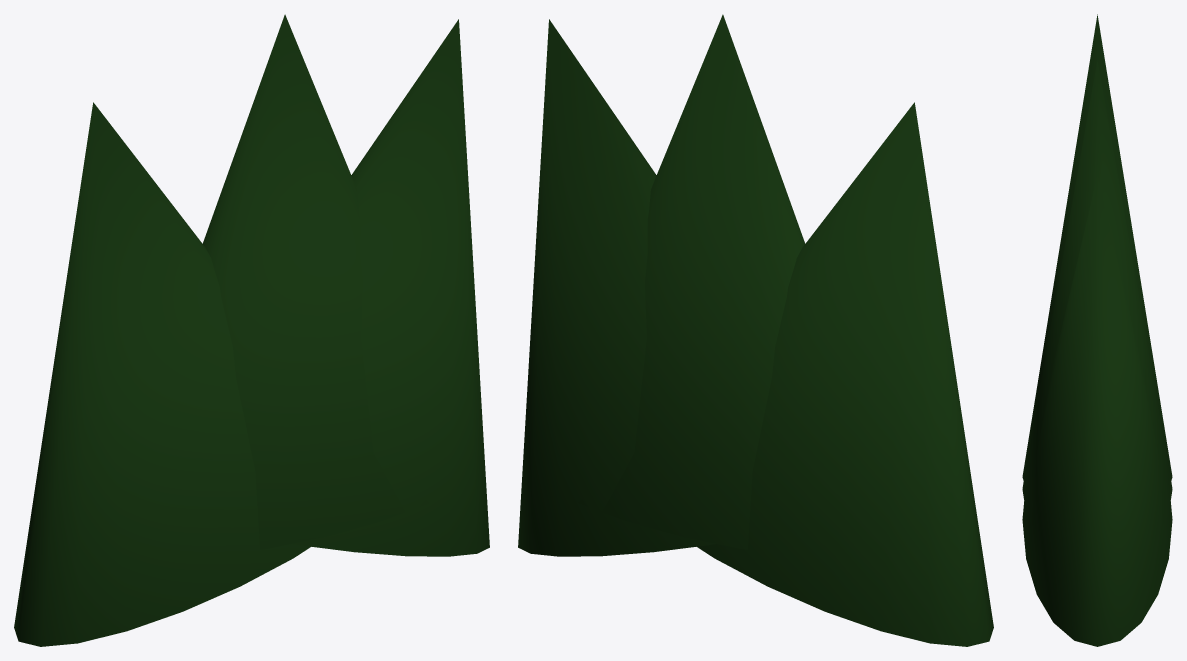
Rendered from Bush3.fbx.
The picture shows the model from 3 angles, left to right: view 1: azimuth 30°, elevation 25°; view 2: azimuth 150°, elevation 25°; view 3: azimuth 270°, elevation 25°; orthographic projection. The views are drawn at different scales.
Parts seen in each view (by area): view 1: pCone3; view 2: pCone3; view 3: pCone3.
Part boxes in pixels (bbox=[...]): pCone3: bbox=[14, 14, 489, 646]; pCone3: bbox=[518, 14, 993, 646]; pCone3: bbox=[1022, 14, 1172, 646].
Bounding box in the file's own units: 1.99 × 2.34 × 0.6336.
